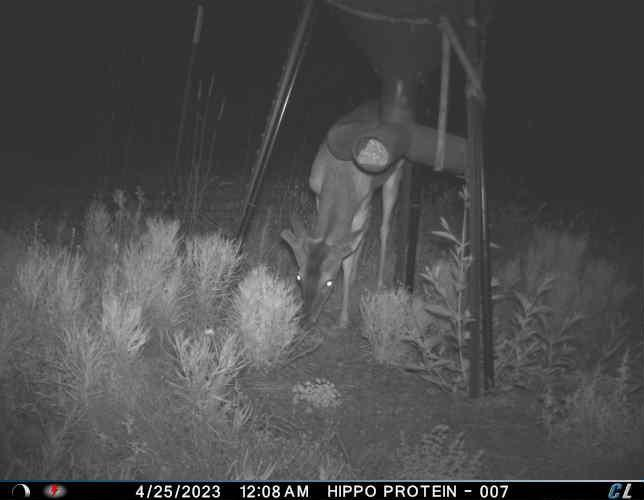Deer: (279, 89, 408, 336)
